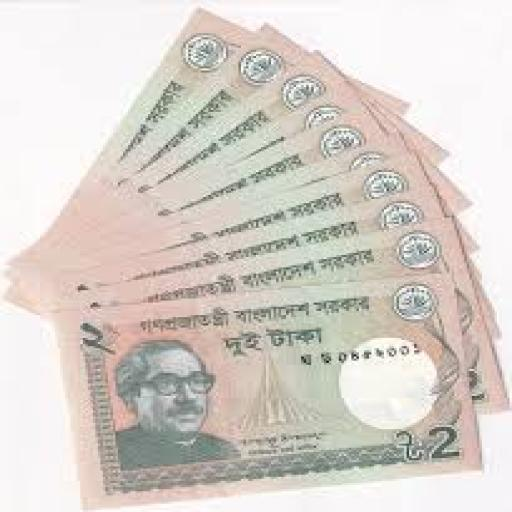2taka: (48, 274, 479, 508)
